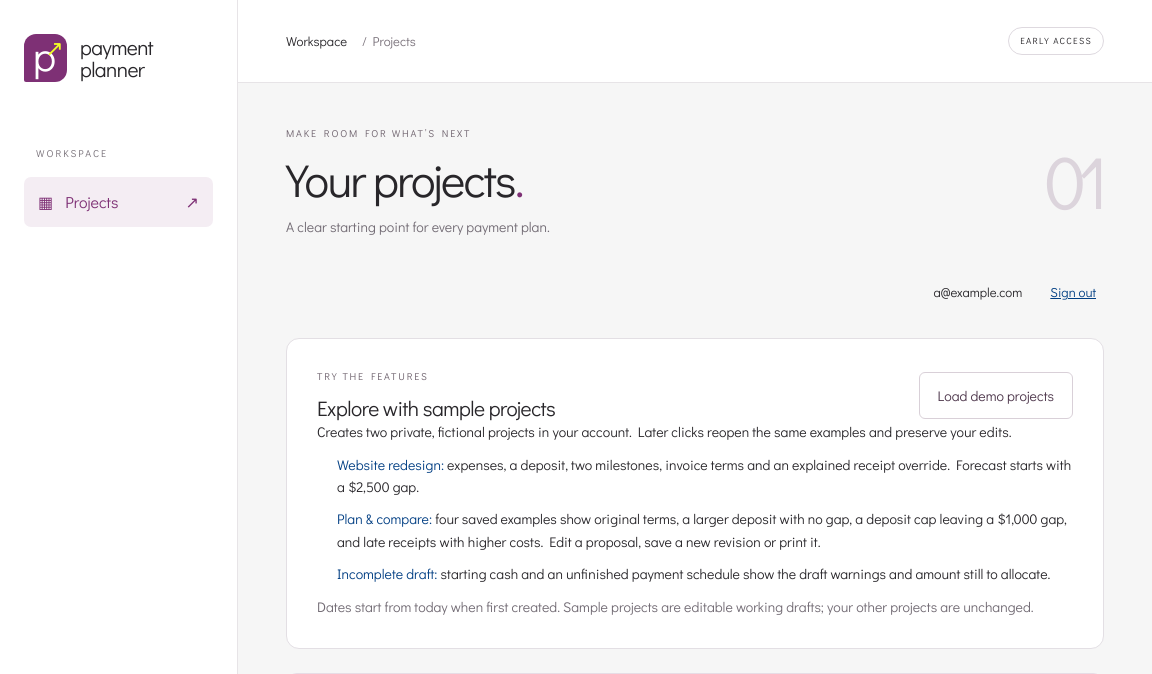
Test: allows a demo retry after failure without clearing existing project records
Click the button "Load demo projects".
click(996, 395)  # box [918,372,1073,419]
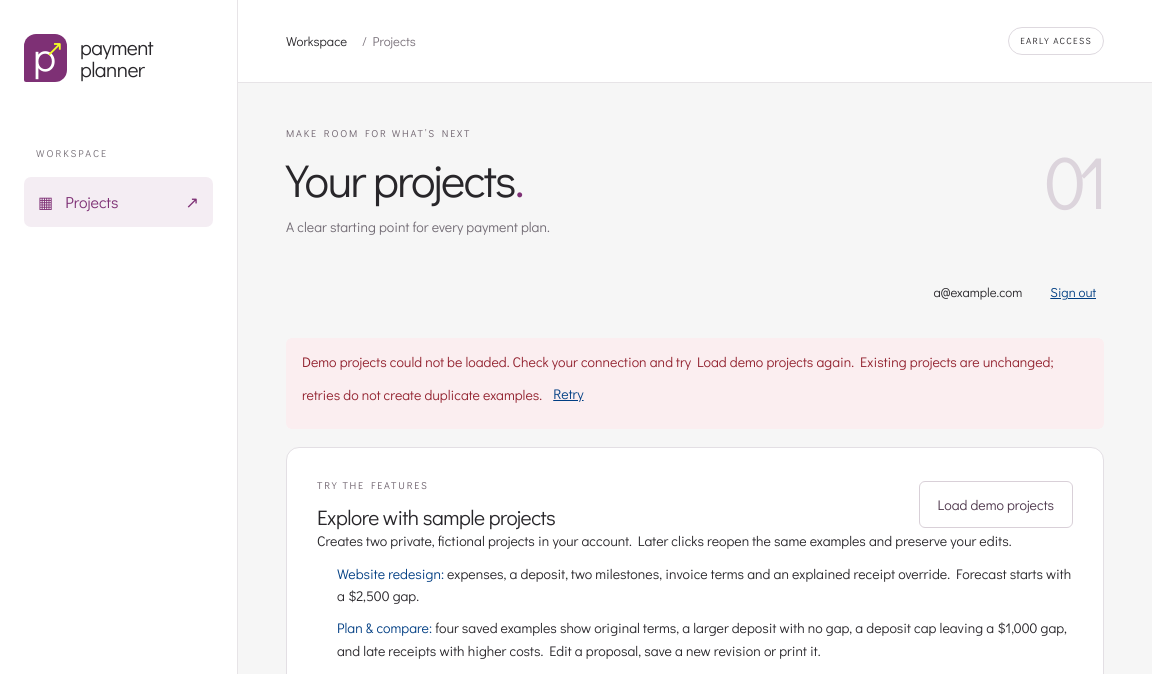
Expected: the message shows "Demo projects could not be loaded", [302,352,1054,404]
Click the button "Load demo projects".
click(996, 504)  # box [918,481,1073,528]
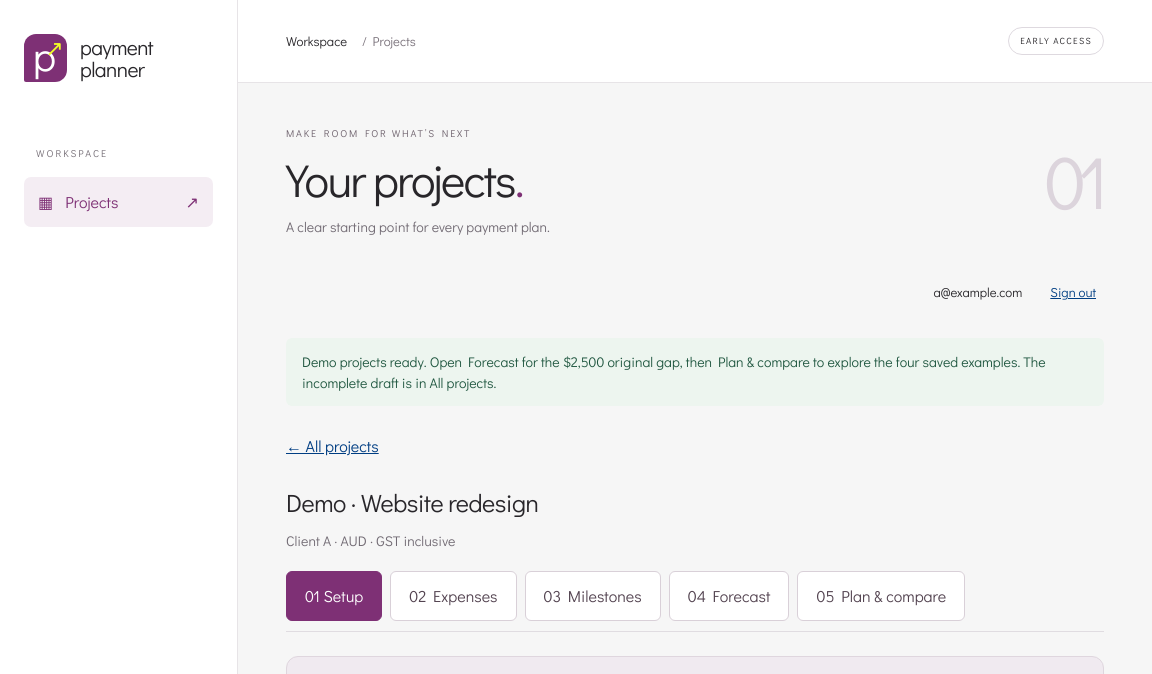
Expected: the heading "Demo · Website redesign" is shown, [286,486,538,519]
